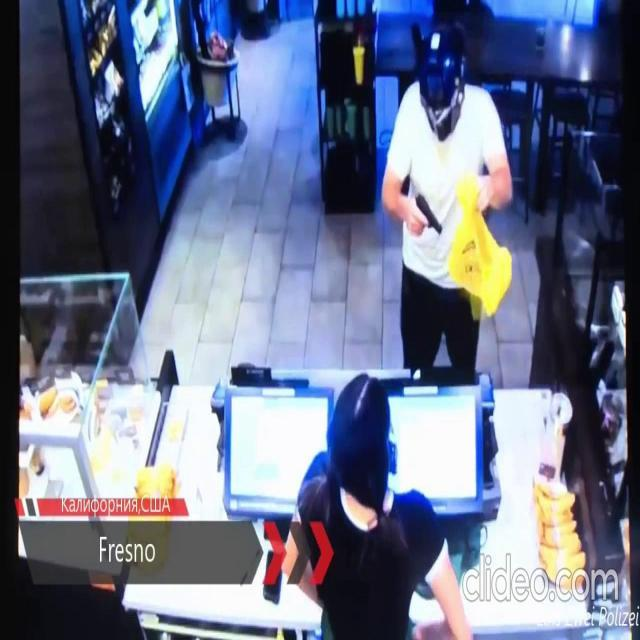pistol: (412, 192, 444, 236)
